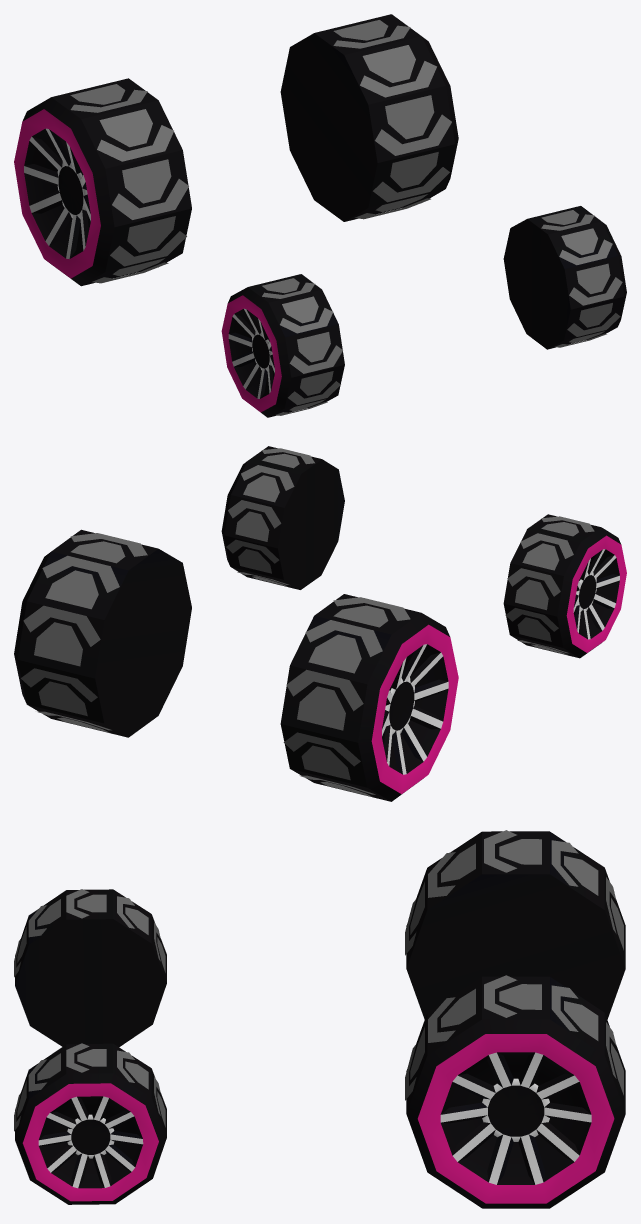
The model's file is JeepWheel02C05.gltf.
3 renders of one model, top to bottom at view 1: azimuth 30°, elevation 25°; view 2: azimuth 150°, elevation 25°; view 3: azimuth 270°, elevation 25°, orthographic. The views are drawn at different scales.
Parts seen in each view (by area): view 1: JeepWheel02C05; view 2: JeepWheel02C05; view 3: JeepWheel02C05.
Boxes of the visible parts, bbox=[...] form: JeepWheel02C05: bbox=[14, 14, 626, 417]; JeepWheel02C05: bbox=[14, 446, 626, 801]; JeepWheel02C05: bbox=[14, 830, 625, 1208].
Size of the model in its own units: 0.2077 by 0.0944 by 0.2725.
